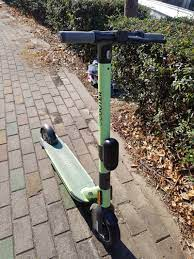kick_board: (40, 29, 166, 247)
kick_handler: (58, 30, 164, 60)
kick_neck: (98, 65, 114, 203)
kick_wheel: (89, 206, 120, 245), (41, 124, 54, 142)
